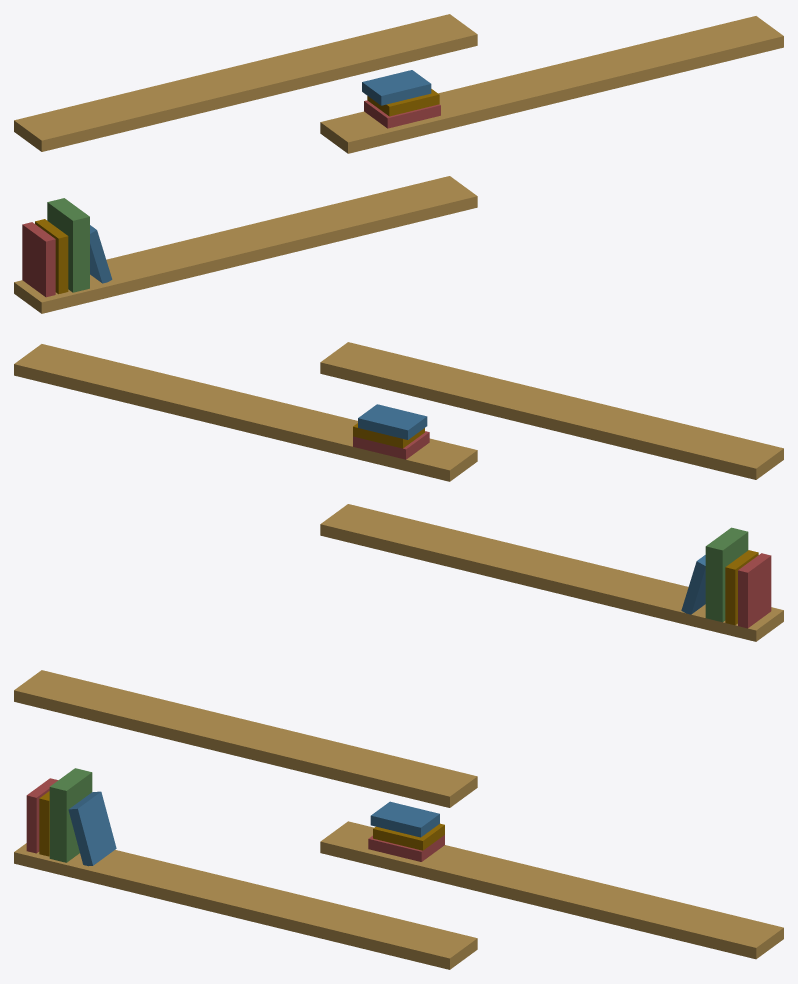
The model's file is HighShelfFullGeo.fbx.
3 views of the same model, one above another, from view 1: azimuth 30°, elevation 25°; view 2: azimuth 150°, elevation 25°; view 3: azimuth 330°, elevation 25° (orthographic).
Parts seen in each view (by area): view 1: HighShelfFullGeo; view 2: HighShelfFullGeo; view 3: HighShelfFullGeo.
Part boxes in pixels (x1,y1,x2,y2): HighShelfFullGeo: [14, 14, 783, 313]; HighShelfFullGeo: [14, 342, 783, 641]; HighShelfFullGeo: [14, 670, 783, 969].
Bounding box in the file's own units: 758 × 169 × 49.12.
